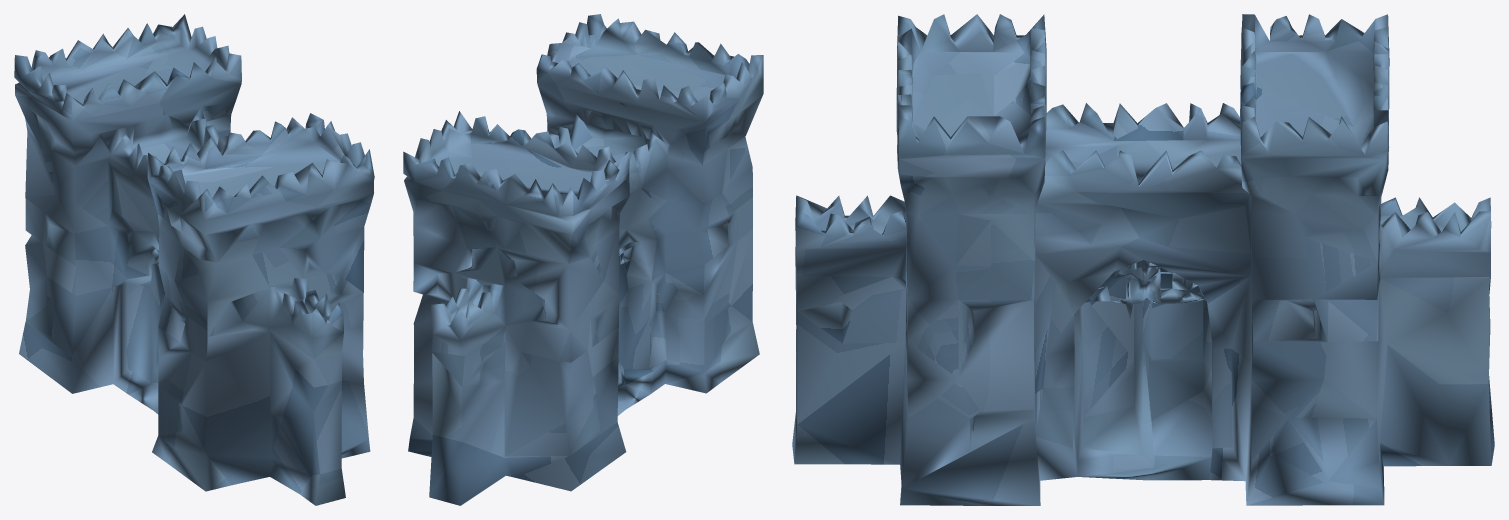
File: castle_gate_diamond_ice_lo.glb
3 renders of one model, left to right at view 1: azimuth 30°, elevation 25°; view 2: azimuth 150°, elevation 25°; view 3: azimuth 270°, elevation 25°, orthographic. The views are drawn at different scales.
Parts seen in each view (by area): view 1: tripo_node_c9715a47-d73a-4e69-864f-7daa05b77624; view 2: tripo_node_c9715a47-d73a-4e69-864f-7daa05b77624; view 3: tripo_node_c9715a47-d73a-4e69-864f-7daa05b77624.
Boxes of the visible parts, x1,y1,x2,y2 form: tripo_node_c9715a47-d73a-4e69-864f-7daa05b77624: (14,14,374,505); tripo_node_c9715a47-d73a-4e69-864f-7daa05b77624: (403,14,763,505); tripo_node_c9715a47-d73a-4e69-864f-7daa05b77624: (792,14,1494,505).
Size of the model in its own units: 0.3578 by 0.5968 by 0.9815.
1 material, 1 textured.
